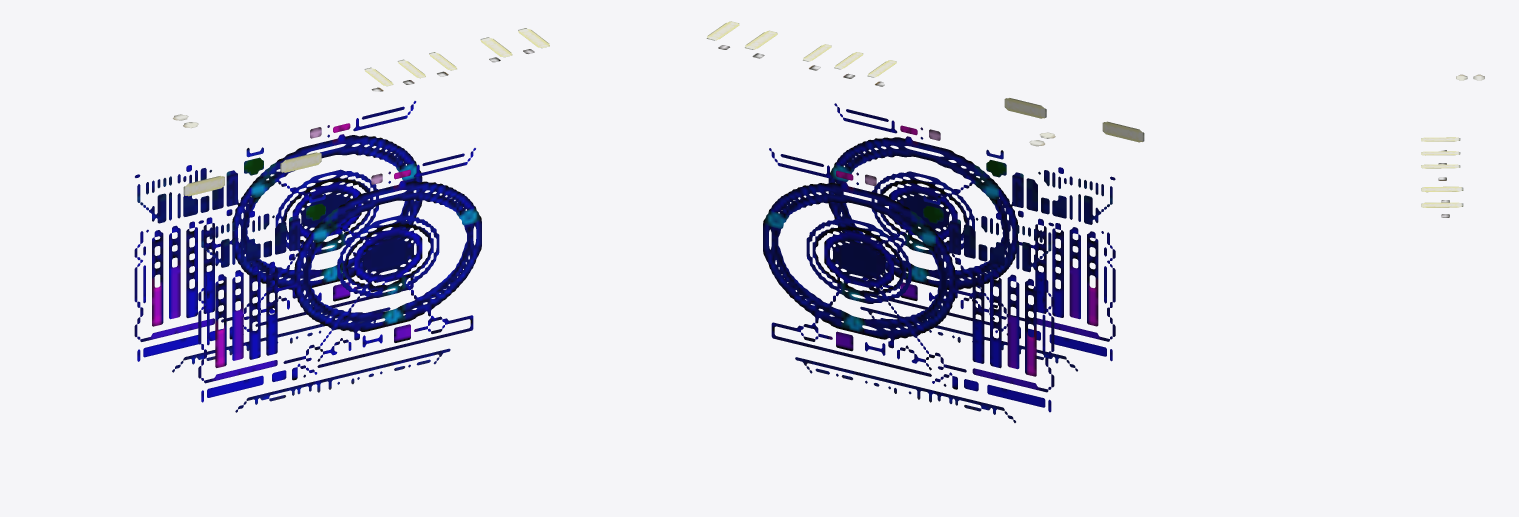
The model's file is pob_station_escape_hatch_l1.fbx.
The picture shows the model from 3 angles, left to right: view 1: azimuth 30°, elevation 25°; view 2: azimuth 150°, elevation 25°; view 3: azimuth 270°, elevation 25°; orthographic projection. The views are drawn at different scales.
Parts seen in each view (by area): view 1: mesh_node; view 2: mesh_node; view 3: mesh_node.
Part boxes in pixels (x1,y1,x2,y2): mesh_node: (134,28,549,412); mesh_node: (706,21,1144,422); mesh_node: (1421,74,1484,217).
Bounding box in the file's own units: 0.4675 × 0.2704 × 0.1865.
